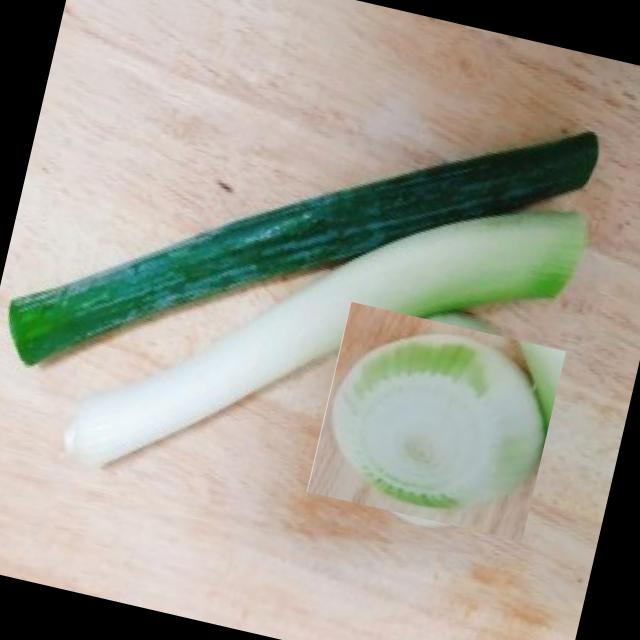Onion: (311, 296, 561, 546)
